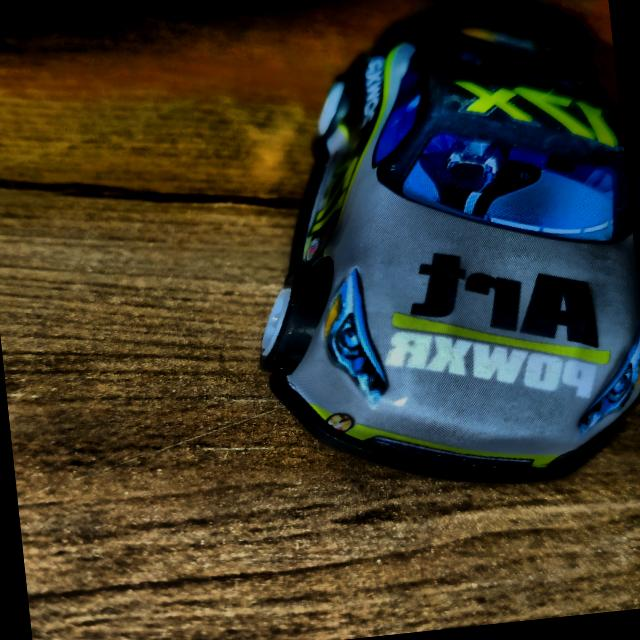Car: (228, 13, 640, 507)
